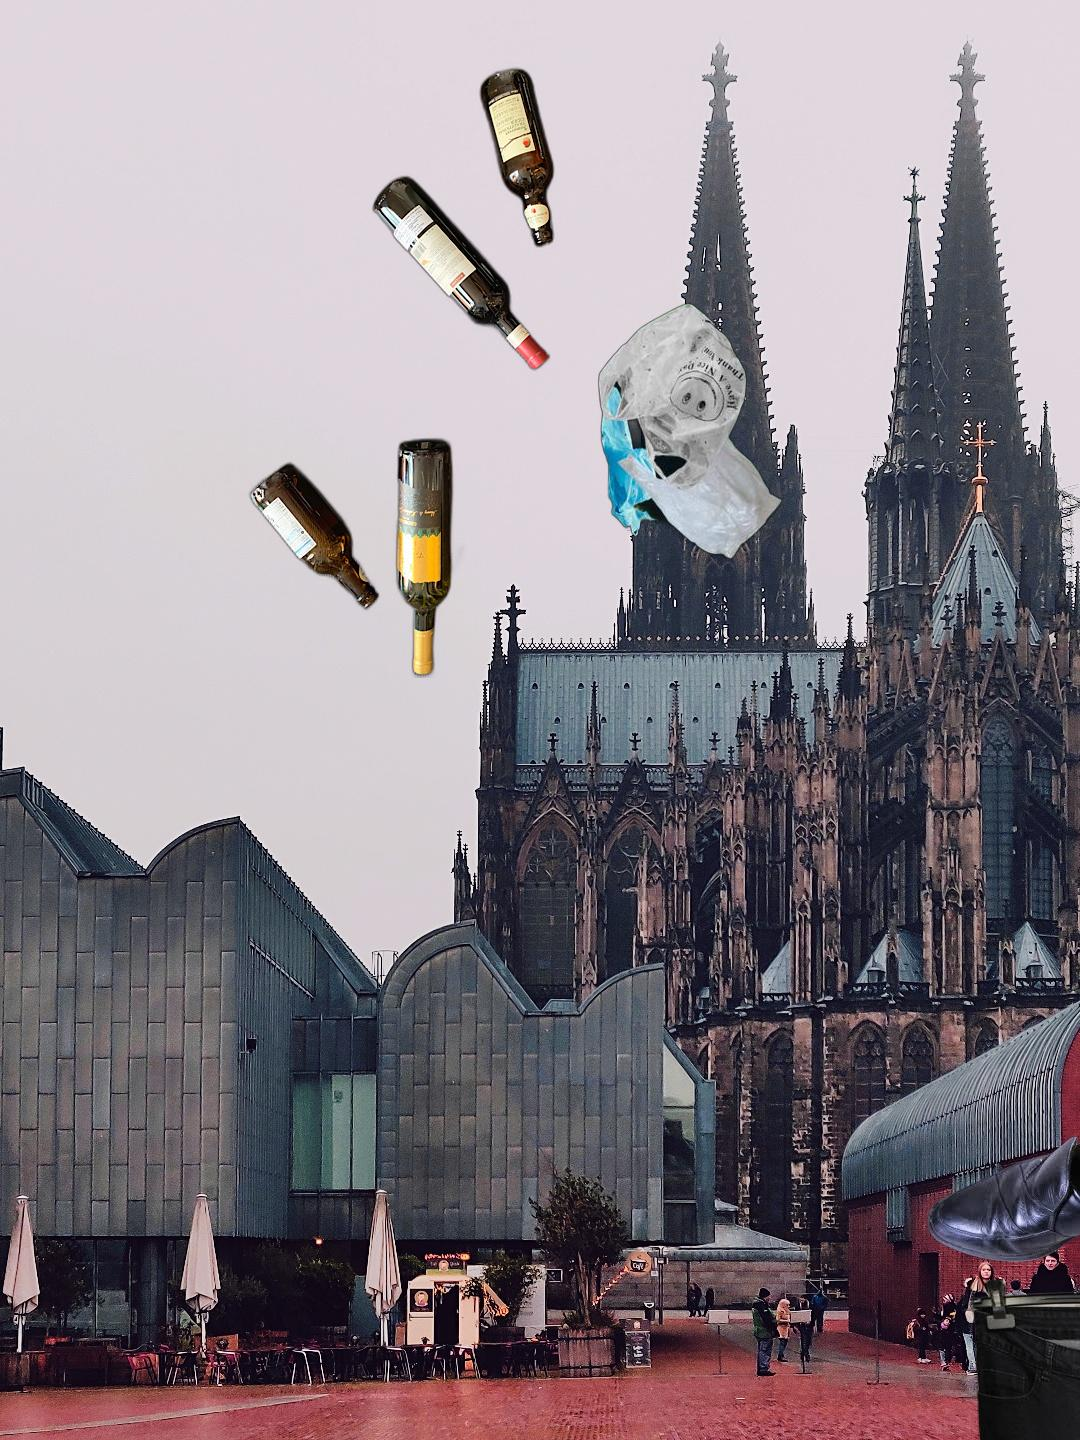clothes: (970, 1280, 1080, 1440)
glass: (245, 63, 558, 678)
metal-cans: (1038, 1234, 1080, 1370)
plastic-bag: (594, 302, 800, 571)
shoes: (926, 1128, 1080, 1265)
